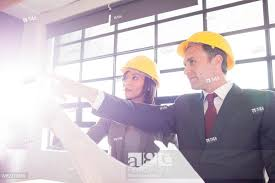Person_wearing_helmet: (178, 29, 236, 69), (117, 51, 164, 81)
